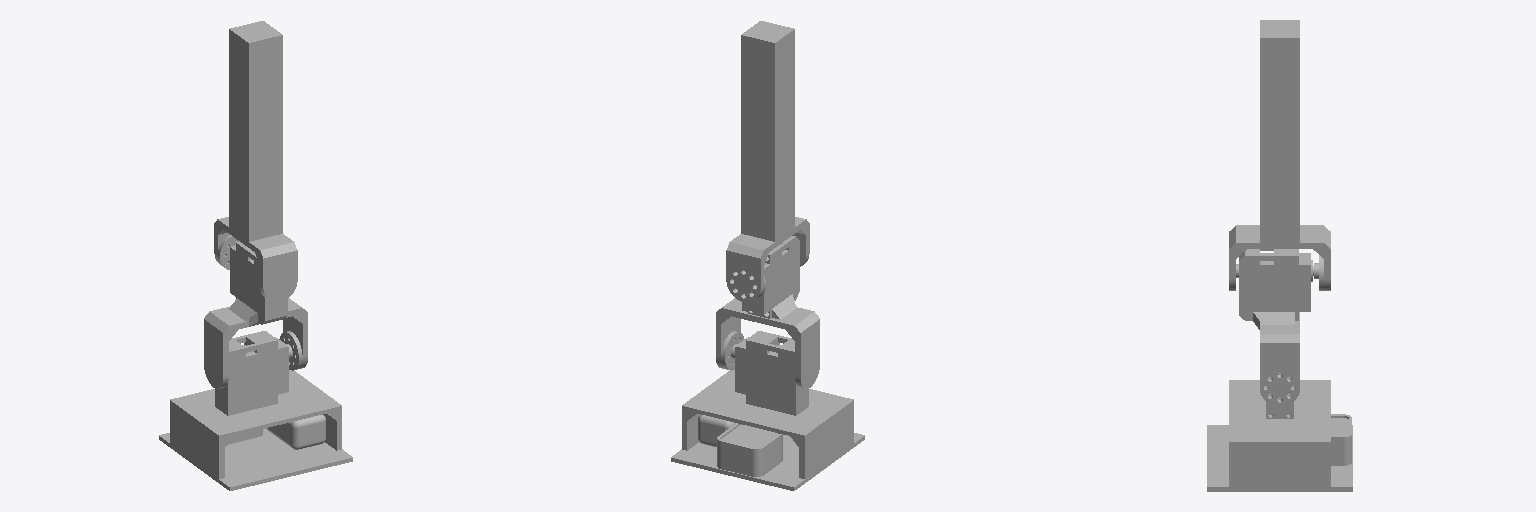
URDF robot description (okiagarikoboshi):
<?xml version='1.0' encoding='utf-8'?>
<robot name="okiagarikoboshi">
    <link name="arm1">
        <inertial>
            <mass value="0.00677043" />
            <origin xyz="-0.0198303 -0.00332605 0.0238007" rpy="0 -0 0" />
            <inertia ixx="2.07565e-06" ixy="1.08167e-08" ixz="-7.74025e-08" iyy="3.02058e-06" iyz="3.48005e-07" izz="1.70256e-06" />
        </inertial>
        <visual>
            <origin xyz="-0.0417 0 0" rpy="0 -0 0" />
            <geometry>
                <mesh filename="package://assets/meshes/Arm1.stl" scale="1 1 1" />
            </geometry>
            <material name="0.749020_0.749020_0.749020_0.000000_0.000000">
                <color rgba="0.74902 0.74902 0.74902 1" />
            </material>
        </visual>
        <collision>
            <origin xyz="-0.0417 0 0" rpy="0 -0 0" />
            <geometry>
                <mesh filename="package://assets/meshes/Arm1.stl" scale="1 1 1" />
            </geometry>
        </collision>
    </link>
    <link name="arm2">
        <inertial>
            <mass value="0.0168831" />
            <origin xyz="-0.0194738 -5.21533e-20 0.060118" rpy="0 -0 0" />
            <inertia ixx="1.93744e-05" ixy="0" ixz="-1.25685e-07" iyy="1.99906e-05" iyz="0" izz="1.52095e-06" />
        </inertial>
        <visual>
            <origin xyz="-0.0417 0 0" rpy="0 -0 0" />
            <geometry>
                <mesh filename="package://assets/meshes/Arm2.stl" scale="1 1 1" />
            </geometry>
            <material name="0.749020_0.749020_0.749020_0.000000_0.000000">
                <color rgba="0.74902 0.74902 0.74902 1" />
            </material>
        </visual>
        <collision>
            <origin xyz="-0.0417 0 0" rpy="0 -0 0" />
            <geometry>
                <mesh filename="package://assets/meshes/Arm2.stl" scale="1 1 1" />
            </geometry>
        </collision>
    </link>
    <link name="base">
        <inertial>
            <mass value="0.034032" />
            <origin xyz="-0.00134323 3.38874e-18 0.0150396" rpy="0 -0 0" />
            <inertia ixx="1.38078e-05" ixy="0" ixz="1.09302e-06" iyy="2.2856e-05" iyz="0" izz="2.33478e-05" />
        </inertial>
        <visual>
            <origin xyz="0 0 0" rpy="0 -0 0" />
            <geometry>
                <mesh filename="package://assets/meshes/Base.stl" scale="1 1 1" />
            </geometry>
            <material name="0.749020_0.749020_0.749020_0.000000_0.000000">
                <color rgba="0.74902 0.74902 0.74902 1" />
            </material>
        </visual>
        <collision>
            <origin xyz="0 0 0" rpy="0 -0 0" />
            <geometry>
                <mesh filename="package://assets/meshes/Base.stl" scale="1 1 1" />
            </geometry>
        </collision>
    </link>
    <link name="battery">
        <inertial>
            <mass value="0.0095618" />
            <origin xyz="0 0.009 0.0075" rpy="0 -0 0" />
            <inertia ixx="4.09189e-07" ixy="0" ixz="0" iyy="8.49117e-07" iyz="0" izz="9.23194e-07" />
        </inertial>
        <visual>
            <origin xyz="-0.015 0 -1.73472e-18" rpy="0 -0 0" />
            <geometry>
                <mesh filename="package://assets/meshes/Battery.stl" scale="1 1 1" />
            </geometry>
            <material name="0.749020_0.749020_0.749020_0.000000_0.000000">
                <color rgba="0.74902 0.74902 0.74902 1" />
            </material>
        </visual>
        <collision>
            <origin xyz="-0.015 0 -1.73472e-18" rpy="0 -0 0" />
            <geometry>
                <mesh filename="package://assets/meshes/Battery.stl" scale="1 1 1" />
            </geometry>
        </collision>
    </link>
    <link name="m5atom">
        <inertial>
            <mass value="0.0092951" />
            <origin xyz="1.34715e-18 0 0.0066192" rpy="0 -0 0" />
            <inertia ixx="5.70776e-07" ixy="0" ixz="0" iyy="5.70776e-07" iyz="0" izz="8.68924e-07" />
        </inertial>
        <visual>
            <origin xyz="1.69477e-18 0 0" rpy="0 -0 0" />
            <geometry>
                <mesh filename="package://assets/meshes/M5Atom.stl" scale="1 1 1" />
            </geometry>
            <material name="0.749020_0.749020_0.749020_0.000000_0.000000">
                <color rgba="0.74902 0.74902 0.74902 1" />
            </material>
        </visual>
        <collision>
            <origin xyz="1.69477e-18 0 0" rpy="0 -0 0" />
            <geometry>
                <mesh filename="package://assets/meshes/M5Atom.stl" scale="1 1 1" />
            </geometry>
        </collision>
    </link>
    <link name="root" />
    <link name="sts3032">
        <inertial>
            <mass value="0.0212025" />
            <origin xyz="9.60267e-05 0.006 0.0141274" rpy="0 -0 0" />
            <inertia ixx="1.641e-06" ixy="0" ixz="-3.00227e-08" iyy="2.37395e-06" iyz="0" izz="1.23566e-06" />
        </inertial>
        <visual>
            <origin xyz="0 0.006 0" rpy="0 -0 0" />
            <geometry>
                <mesh filename="package://assets/meshes/STS3032.stl" scale="1 1 1" />
            </geometry>
            <material name="0.749020_0.749020_0.749020_0.000000_0.000000">
                <color rgba="0.74902 0.74902 0.74902 1" />
            </material>
        </visual>
        <collision>
            <origin xyz="0 0.006 0" rpy="0 -0 0" />
            <geometry>
                <mesh filename="package://assets/meshes/STS3032.stl" scale="1 1 1" />
            </geometry>
        </collision>
    </link>
    <link name="sts3032_1">
        <inertial>
            <mass value="0.0212025" />
            <origin xyz="9.60267e-05 -0.006 0.0141274" rpy="0 -0 0" />
            <inertia ixx="1.641e-06" ixy="0" ixz="-3.00227e-08" iyy="2.37395e-06" iyz="0" izz="1.23566e-06" />
        </inertial>
        <visual>
            <origin xyz="0 -0.006 0" rpy="0 -0 0" />
            <geometry>
                <mesh filename="package://assets/meshes/STS3032.stl" scale="1 1 1" />
            </geometry>
            <material name="0.749020_0.749020_0.749020_0.000000_0.000000">
                <color rgba="0.74902 0.74902 0.74902 1" />
            </material>
        </visual>
        <collision>
            <origin xyz="0 -0.006 0" rpy="0 -0 0" />
            <geometry>
                <mesh filename="package://assets/meshes/STS3032.stl" scale="1 1 1" />
            </geometry>
        </collision>
    </link>
    <link name="sts3032_horn">
        <inertial>
            <mass value="0.00140165" />
            <origin xyz="2.67641e-19 9.02511e-20 4.20229e-05" rpy="0 -0 0" />
            <inertia ixx="2.81491e-08" ixy="0" ixz="0" iyy="2.81491e-08" iyz="0" izz="5.38819e-08" />
        </inertial>
        <visual>
            <origin xyz="0 0 -0.0012" rpy="0 -0 0" />
            <geometry>
                <mesh filename="package://assets/meshes/STS3032_Horn.stl" scale="1 1 1" />
            </geometry>
            <material name="0.749020_0.749020_0.749020_0.000000_0.000000">
                <color rgba="0.74902 0.74902 0.74902 1" />
            </material>
        </visual>
        <collision>
            <origin xyz="0 0 -0.0012" rpy="0 -0 0" />
            <geometry>
                <mesh filename="package://assets/meshes/STS3032_Horn.stl" scale="1 1 1" />
            </geometry>
        </collision>
    </link>
    <link name="sts3032_horn_1">
        <inertial>
            <mass value="0.00140165" />
            <origin xyz="2.67641e-19 9.02511e-20 4.20229e-05" rpy="0 -0 0" />
            <inertia ixx="2.81491e-08" ixy="0" ixz="0" iyy="2.81491e-08" iyz="0" izz="5.38819e-08" />
        </inertial>
        <visual>
            <origin xyz="0 0 -0.0012" rpy="0 -0 0" />
            <geometry>
                <mesh filename="package://assets/meshes/STS3032_Horn.stl" scale="1 1 1" />
            </geometry>
            <material name="0.749020_0.749020_0.749020_0.000000_0.000000">
                <color rgba="0.74902 0.74902 0.74902 1" />
            </material>
        </visual>
        <collision>
            <origin xyz="0 0 -0.0012" rpy="0 -0 0" />
            <geometry>
                <mesh filename="package://assets/meshes/STS3032_Horn.stl" scale="1 1 1" />
            </geometry>
        </collision>
    </link>
    <joint name="fix1" type="fixed">
        <origin xyz="-0.01375 -0.006 0.04" rpy="0 -1.5708 3.14159" />
        <axis xyz="0 1 0" />
        <parent link="base" />
        <child link="sts3032_1" />
    </joint>
    <joint name="fix2" type="fixed">
        <origin xyz="4.33681e-19 0 -0.0012" rpy="0 1.5708 4.71239" />
        <axis xyz="-1 -0 -0" />
        <parent link="sts3032_horn_1" />
        <child link="arm1" />
    </joint>
    <joint name="fix3" type="fixed">
        <origin xyz="-0.02535 -0.01375 0.041" rpy="0 -1.5708 -1.5708" />
        <axis xyz="0 -1 0" />
        <parent link="arm1" />
        <child link="sts3032" />
    </joint>
    <joint name="fix4" type="fixed">
        <origin xyz="1.38778e-17 -1.51788e-17 -0.0012" rpy="0 1.5708 -4.24713e-15" />
        <axis xyz="-1 -0 -0" />
        <parent link="sts3032_horn" />
        <child link="arm2" />
    </joint>
    <joint name="fix5" type="fixed">
        <origin xyz="0.0295 0 0.002" rpy="0 -0 1.5708" />
        <axis xyz="-1 -2.22045e-16 -0" />
        <parent link="base" />
        <child link="battery" />
    </joint>
    <joint name="fix6" type="fixed">
        <origin xyz="-0.002 0.02 0.002" rpy="0 -0 0" />
        <axis xyz="0 0 -1" />
        <parent link="base" />
        <child link="m5atom" />
    </joint>
    <joint name="fixed_node_to_root_joint" type="fixed">
        <origin xyz="0.00169854 -0.00260265 -0.00443611" rpy="0 -0 0" />
        <axis xyz="0 0 1" />
        <parent link="root" />
        <child link="base" />
    </joint>
    <joint name="revolute1" type="revolute">
        <origin xyz="0.00579 -0.006 0.0319" rpy="3.14159 -4.44089e-16 -1.5708" />
        <axis xyz="0 0 -1" />
        <parent link="sts3032_1" />
        <child link="sts3032_horn_1" />
        <limit effort="1" velocity="1" lower="-1.5708" upper="1.5708" />
    </joint>
    <joint name="revolute2" type="revolute">
        <origin xyz="0.00579 0.006 0.0319" rpy="-3.14159 2.25509e-15 6.9571e-16" />
        <axis xyz="0 0 -1" />
        <parent link="sts3032" />
        <child link="sts3032_horn" />
        <limit effort="1" velocity="1" lower="-2.0944" upper="2.0944" />
    </joint>
</robot>

--- What the picture shows (computed from the rendered views, not written in the file) ---
Views: 3 orthographic renders of the robot side by side, from view 1: azimuth 30°, elevation 25°; view 2: azimuth 150°, elevation 25°; view 3: azimuth 270°, elevation 25°.
Model okiagarikoboshi with 10 links and 9 joints (2 revolute, 7 fixed), rooted at root, posed every joint at zero.
Visible links, largest first — view 1: arm2, base, arm1, sts3032_1, sts3032, battery; view 2: arm2, base, arm1, m5atom, sts3032_1, sts3032, battery; view 3: base, arm2, arm1, sts3032, m5atom.
Link boxes in pixels (x1,y1,x2,y2): arm2: [214, 21, 297, 302]; base: [159, 331, 352, 490]; arm1: [204, 243, 307, 388]; sts3032_1: [236, 331, 288, 404]; sts3032: [230, 241, 259, 313]; battery: [266, 415, 325, 449]; arm2: [726, 21, 809, 302]; base: [671, 331, 864, 490]; arm1: [716, 236, 819, 388]; m5atom: [717, 423, 782, 476]; sts3032_1: [735, 331, 787, 404]; sts3032: [742, 247, 793, 318]; battery: [698, 415, 735, 446]; base: [1207, 380, 1352, 491]; arm2: [1229, 20, 1330, 290]; arm1: [1239, 249, 1299, 405]; sts3032: [1249, 249, 1313, 320]; m5atom: [1331, 414, 1351, 465].
Bounding box of the posed robot: 0.065 × 0.065 × 0.2106 m (x, y, z).
Meshes: 7 distinct files referenced, 9 mesh visuals loaded (7 binary STL).
